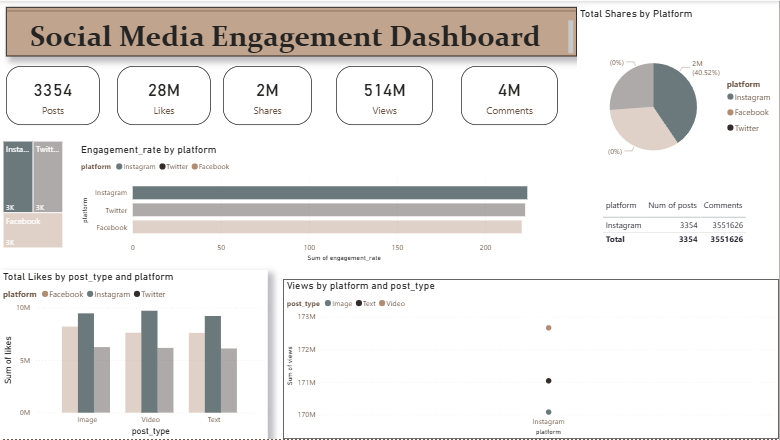

The page's visual inventory and layout, read from the dashboard file:
{"tool":"powerbi","page":{"name":"Page 1","canvas":[1280,720],"ordinal":0},"visuals":[{"type":"textbox","box":[24.6,706.5,279.3,13.1],"z":0},{"type":"textbox","box":[9.9,9.9,938.2,80.5],"z":1000},{"type":"card","fields":{"Values":["in.Num of posts"]},"box":[9.9,106.8,154.5,96.9],"z":2000},{"type":"card","fields":{"Values":["Sum(in.likes)"]},"box":[192.2,106.8,154.5,96.9],"z":3000},{"type":"card","fields":{"Values":["Sum(in.shares)"]},"box":[366.4,106.8,146.2,96.9],"z":4000},{"type":"card","fields":{"Values":["Sum(in.views)"]},"box":[552.1,106.8,159.4,96.9],"z":5000},{"type":"treemap","fields":{"Group":["in.platform"],"Values":["in.Num of posts"]},"box":[0,225.1,108.4,185.7],"z":6000},{"type":"card","fields":{"Values":["Sum(in.comments)"]},"box":[757.5,106.8,159.4,96.9],"z":7000},{"type":"barChart","title":"Engagement_rate by platform ","fields":{"Category":["in.platform"],"Y":["Sum(in.engagement_rate)"],"Series":["in.platform"]},"box":[128.2,233.3,800.2,198.8],"z":8000},{"type":"lineClusteredColumnComboChart","title":"Total Likes by post_type and platform","fields":{"Category":["in.post_type"],"Y":["Sum(in.likes)"],"Series":["in.platform"]},"box":[0,442,440.4,277.7],"z":9000},{"type":"lineChart","title":"Views by platform and post_type","fields":{"Y":["Sum(in.views)"],"Category":["in.platform"],"Series":["in.post_type"]},"box":[465,456.8,815,262.9],"z":10000},{"type":"pieChart","title":"Total Shares by Platform","fields":{"Y":["Sum(in.shares)"],"Category":["in.platform"]},"box":[948.1,9.9,331.9,308.9],"z":11000},{"type":"tableEx","fields":{"Values":["in.platform","in.Num of posts","Sum(in.comments)"]},"box":[984.2,318.8,295.8,138],"z":12000}]}

Visuals, with their boxes in screenshot pixels (x1, y1, x2, y2), scaled from the page's 1280x720 canvas onto the 780x440 screenshot:
textbox: pyautogui.locateOnScreen(15, 432, 185, 439)
textbox: pyautogui.locateOnScreen(6, 6, 578, 55)
card - in.Num of posts: pyautogui.locateOnScreen(6, 65, 100, 124)
card - Sum(in.likes): pyautogui.locateOnScreen(117, 65, 211, 124)
card - Sum(in.shares): pyautogui.locateOnScreen(223, 65, 312, 124)
card - Sum(in.views): pyautogui.locateOnScreen(336, 65, 434, 124)
treemap - in.platform x in.Num of posts: pyautogui.locateOnScreen(0, 138, 66, 251)
card - Sum(in.comments): pyautogui.locateOnScreen(462, 65, 559, 124)
"Engagement_rate by platform " barChart: pyautogui.locateOnScreen(78, 143, 566, 264)
"Total Likes by post_type and platform" lineClusteredColumnComboChart: pyautogui.locateOnScreen(0, 270, 268, 439)
"Views by platform and post_type" lineChart: pyautogui.locateOnScreen(283, 279, 779, 439)
"Total Shares by Platform" pieChart: pyautogui.locateOnScreen(578, 6, 779, 195)
tableEx - in.platform x in.Num of posts: pyautogui.locateOnScreen(600, 195, 779, 279)
